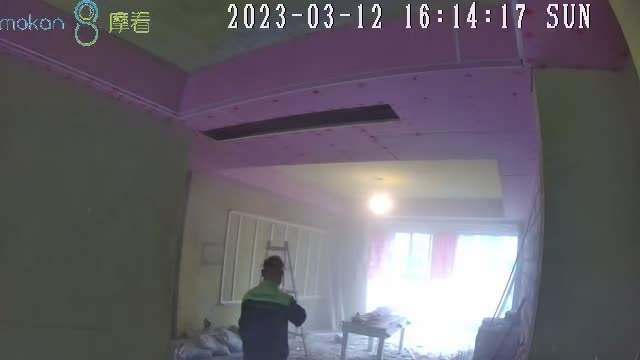people: (240, 255, 308, 360)
window: (369, 229, 517, 329)
